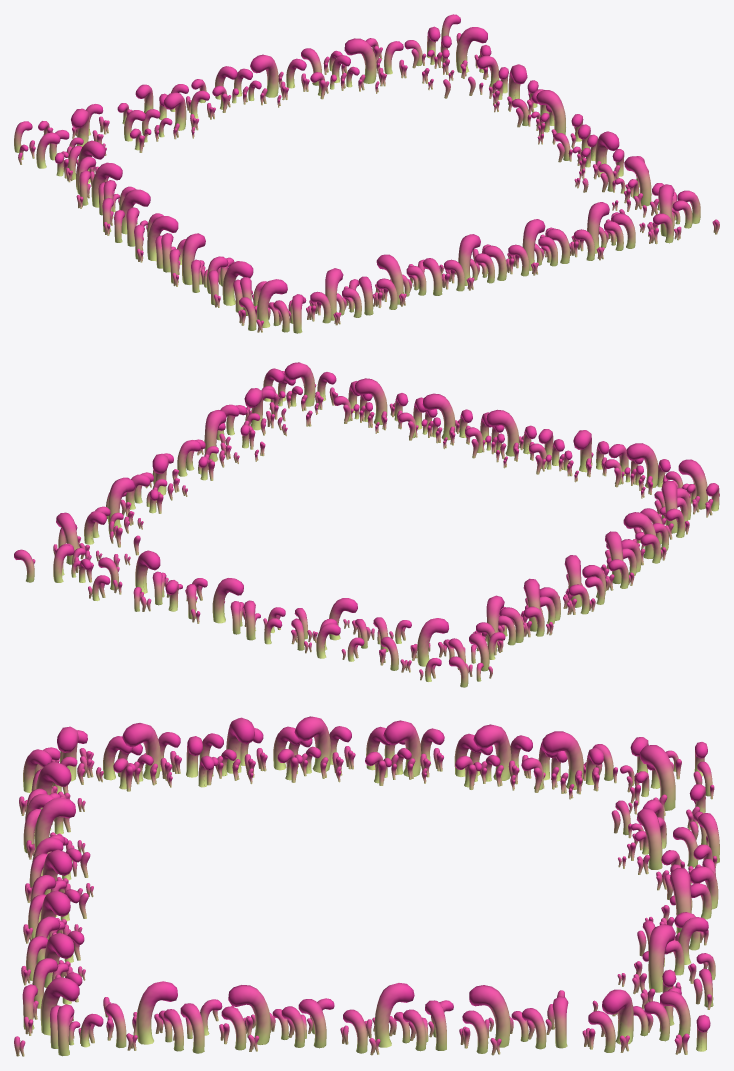
Rendered from flopple_edge.fbx.
3 renders of one model, top to bottom at view 1: azimuth 30°, elevation 25°; view 2: azimuth 150°, elevation 25°; view 3: azimuth 270°, elevation 25°, orthographic. The views are drawn at different scales.
Visible parts, largest first — view 1: flople.023, flople.114, flople.107, flople.016, flople.058, flople.030, flople.121, flople.044, flople.128, flople.142, flople.079, flople.093 (+6 smaller); view 2: flople.009, flople.016, flople.086, flople.107, flople.072, flople.065, flople.079, flople.100, flople.037, flople.023, flople.051, flople.121 (+5 smaller); view 3: flople.058, flople.044, flople.051, flople.037, flople.009, flople.023, flople.149, flople.030, flople.114, flople.128, flople.135, flople.142 (+29 smaller).
Boxes of the visible parts, x1=… form: flople.023: x1=344, y1=38, x2=376, y2=83; flople.114: x1=222, y1=261, x2=253, y2=305; flople.107: x1=257, y1=279, x2=287, y2=327; flople.016: x1=250, y1=54, x2=278, y2=97; flople.058: x1=624, y1=156, x2=651, y2=206; flople.030: x1=456, y1=27, x2=487, y2=73; flople.121: x1=182, y1=233, x2=205, y2=284; flople.044: x1=536, y1=90, x2=565, y2=134; flople.128: x1=147, y1=216, x2=178, y2=261; flople.142: x1=91, y1=162, x2=122, y2=207; flople.079: x1=522, y1=219, x2=545, y2=270; flople.093: x1=376, y1=254, x2=403, y2=304; flople.009: x1=417, y1=618, x2=448, y2=666; flople.016: x1=212, y1=578, x2=243, y2=623; flople.086: x1=486, y1=409, x2=519, y2=456; flople.107: x1=678, y1=459, x2=707, y2=509; flople.072: x1=354, y1=378, x2=387, y2=424; flople.065: x1=284, y1=362, x2=315, y2=406; flople.079: x1=422, y1=393, x2=455, y2=440; flople.100: x1=626, y1=443, x2=658, y2=487; flople.037: x1=107, y1=477, x2=135, y2=528; flople.023: x1=135, y1=550, x2=160, y2=593; flople.051: x1=204, y1=410, x2=226, y2=461; flople.121: x1=624, y1=512, x2=655, y2=558; flople.058: x1=136, y1=981, x2=177, y2=1044; flople.044: x1=374, y1=983, x2=414, y2=1047; flople.051: x1=228, y1=985, x2=270, y2=1044; flople.037: x1=469, y1=985, x2=510, y2=1047; flople.009: x1=639, y1=745, x2=675, y2=810; flople.023: x1=648, y1=924, x2=675, y2=992; flople.149: x1=542, y1=731, x2=583, y2=789; flople.030: x1=602, y1=989, x2=633, y2=1044; flople.114: x1=122, y1=723, x2=160, y2=779; flople.128: x1=294, y1=716, x2=330, y2=772; flople.135: x1=383, y1=720, x2=421, y2=776; flople.142: x1=473, y1=724, x2=511, y2=780.
Size of the model in its own units: 10264 by 908 by 10209.
